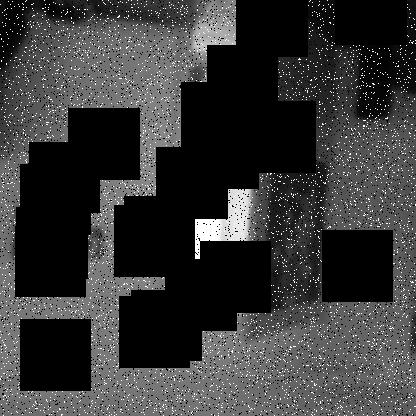Porte: (154, 1, 341, 346)
